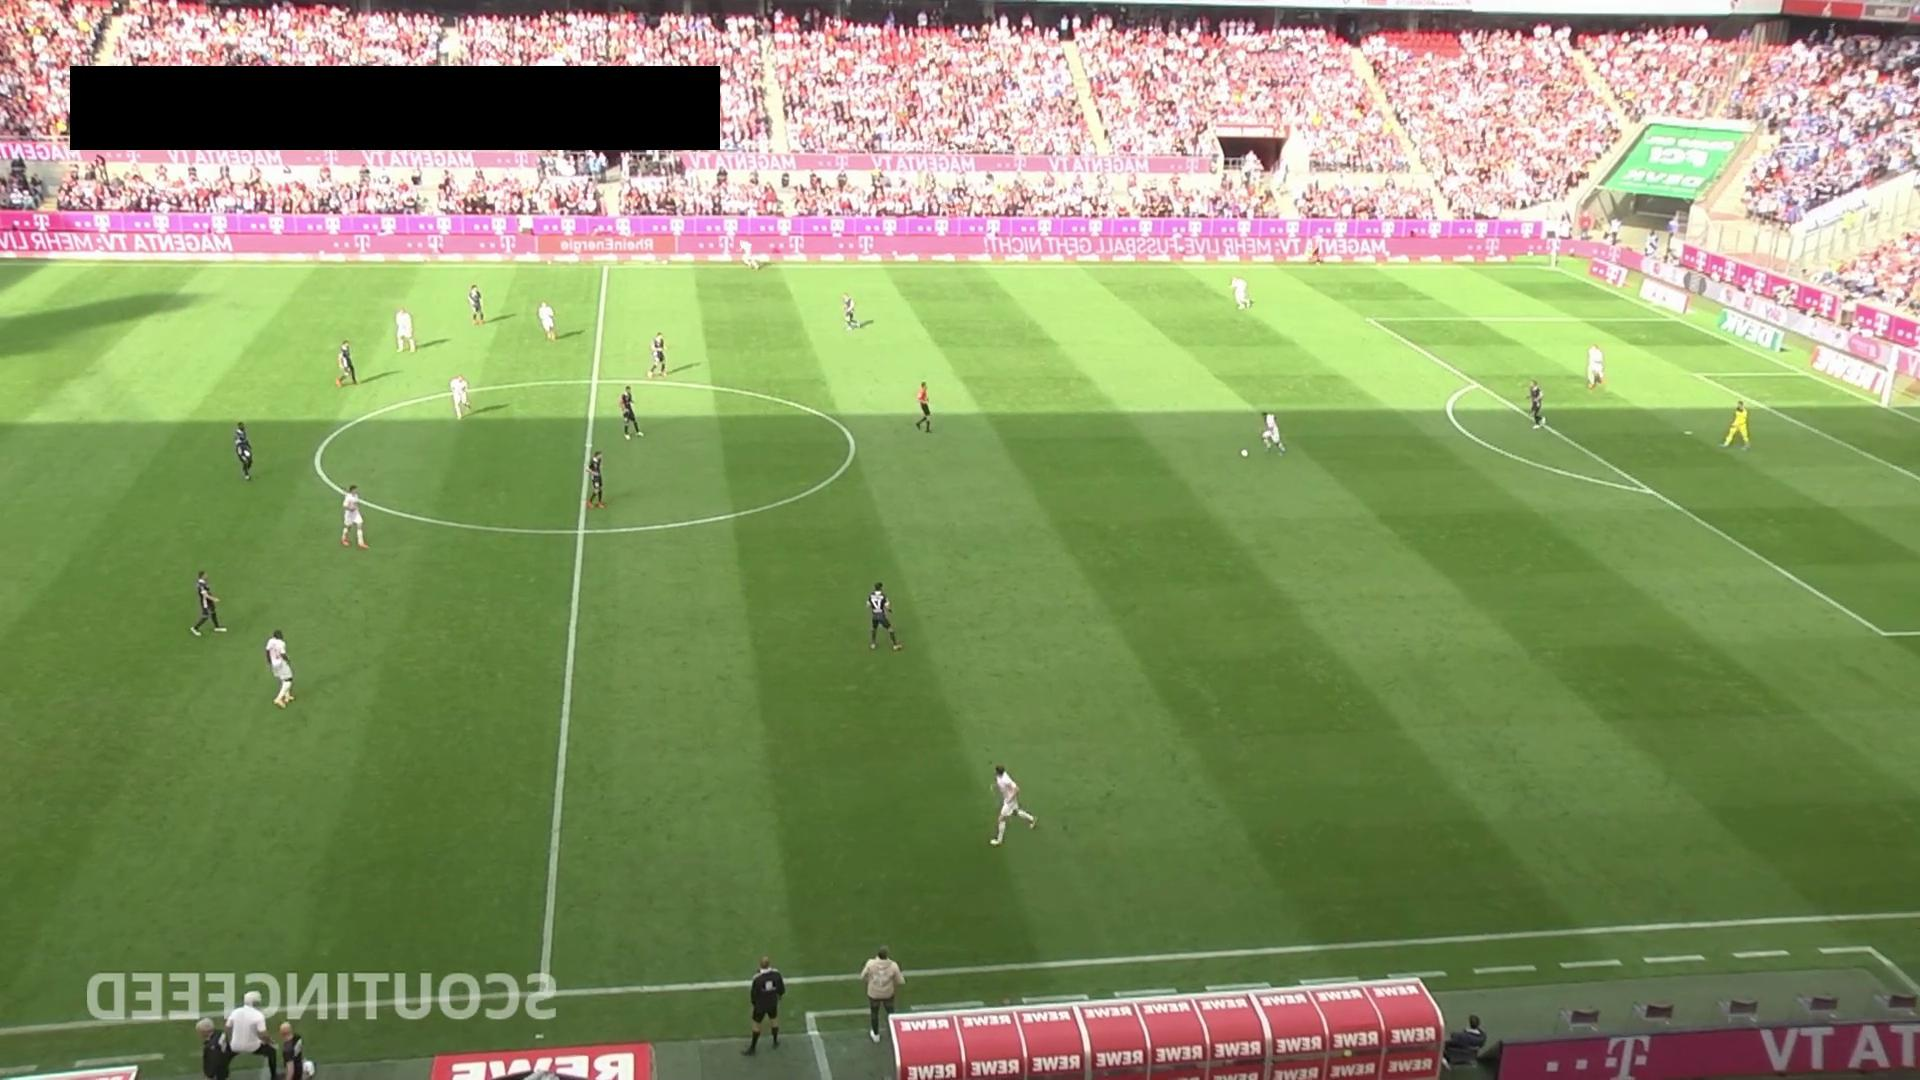ball: (1239, 448, 1251, 461)
goalkeeper: (1721, 399, 1751, 451)
player: (989, 764, 1038, 846), (866, 581, 904, 651), (190, 569, 226, 636), (265, 628, 295, 708), (341, 483, 369, 549), (619, 385, 645, 440), (1259, 408, 1287, 456), (233, 421, 254, 481), (585, 449, 605, 509), (335, 338, 359, 387), (449, 373, 471, 420), (395, 306, 416, 353), (648, 330, 668, 378), (1527, 379, 1545, 428), (1586, 343, 1604, 391), (737, 237, 760, 271), (538, 300, 557, 341), (1230, 275, 1252, 310), (468, 284, 485, 324), (841, 293, 859, 330)
referee: (915, 380, 933, 432), (1308, 231, 1324, 265)
